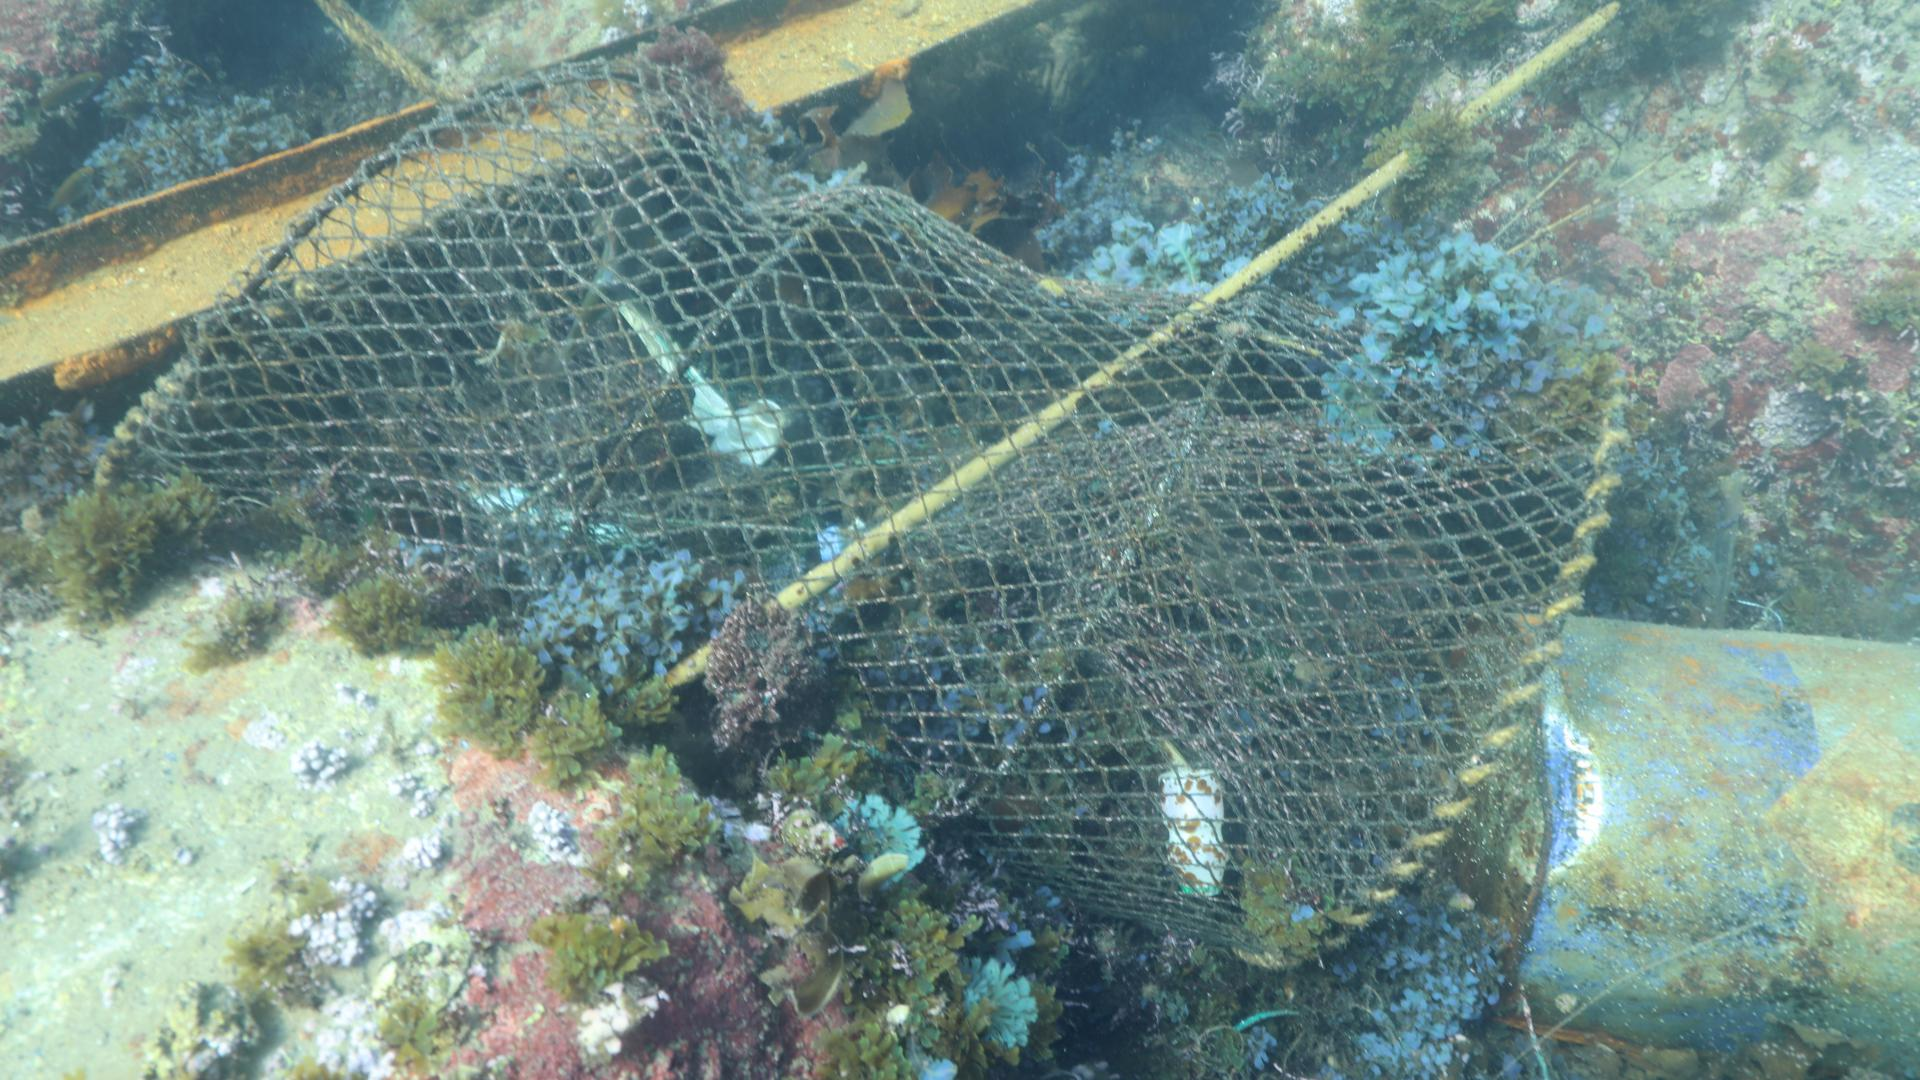spring fish trap: (90, 51, 1633, 969)
